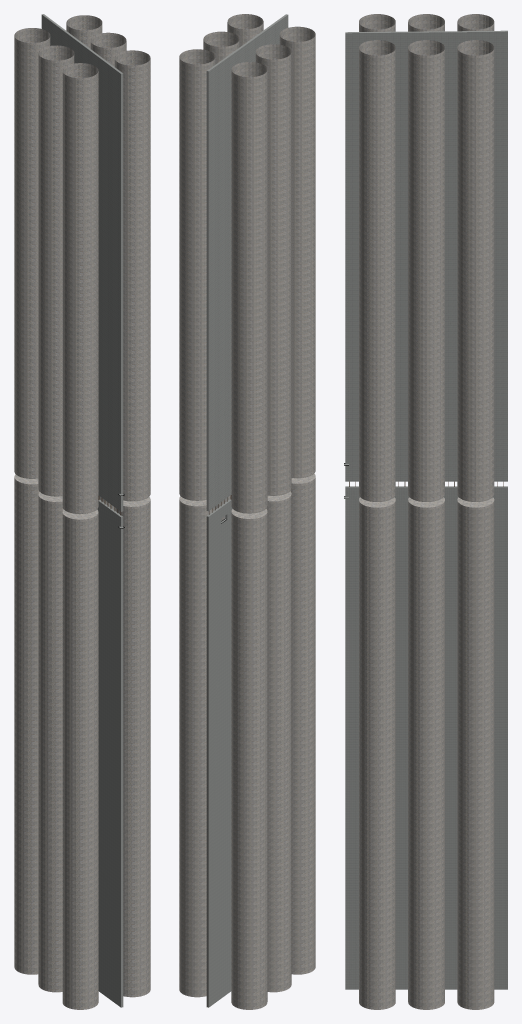
Rendered from Room6.gltf.
3 renders of one model, left to right at view 1: azimuth 30°, elevation 25°; view 2: azimuth 150°, elevation 25°; view 3: azimuth 270°, elevation 25°, orthographic. The views are drawn at different scales.
Visible parts, largest first — view 1: Cube; view 2: Cube; view 3: Cube.
Part boxes in pixels (x1=…): Cube: x1=14, y1=14, x2=150, y2=1009; Cube: x1=179, y1=14, x2=315, y2=1009; Cube: x1=344, y1=14, x2=507, y2=1009.
Size of the model in its own units: 160 by 1716 by 266.
5 materials, 4 textured.
